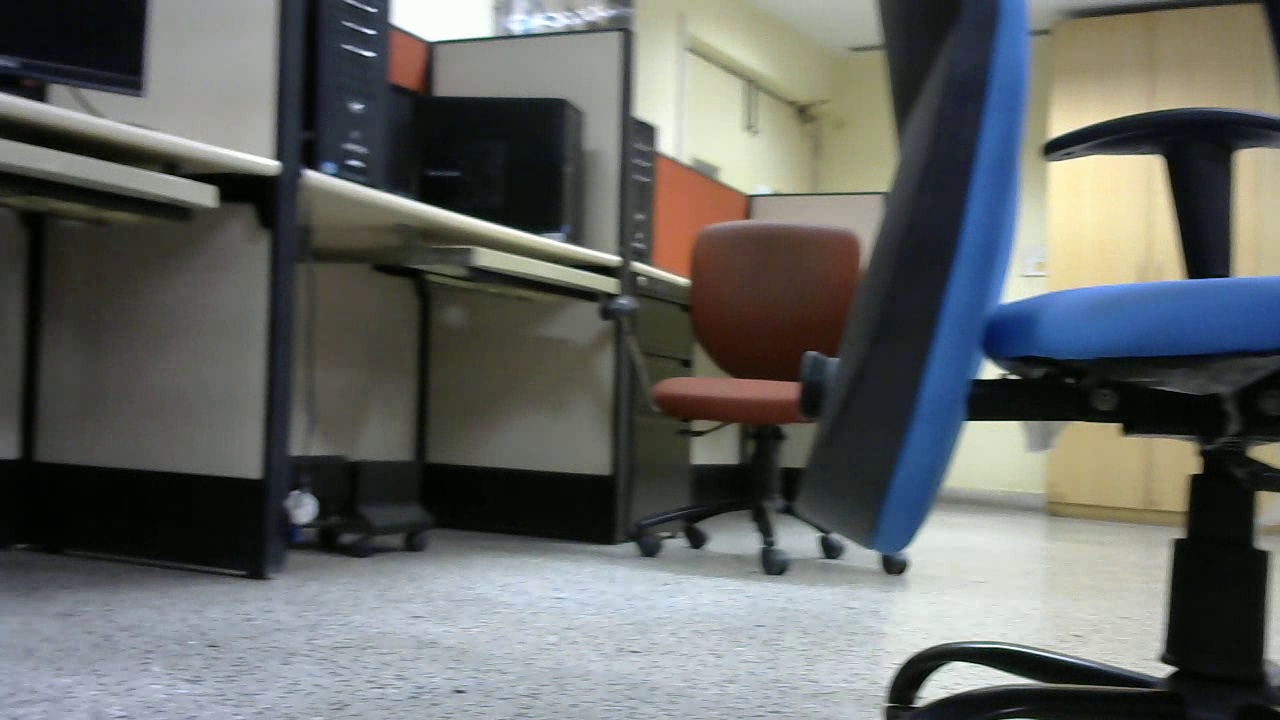chair: (17, 1, 418, 626)
